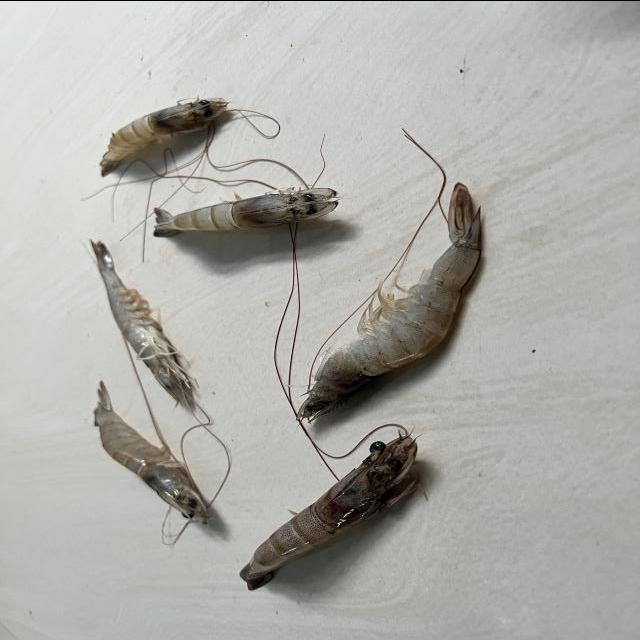shrimp: (298, 181, 481, 420), (240, 435, 417, 590), (89, 239, 190, 405), (93, 381, 210, 524), (99, 96, 227, 175), (153, 187, 338, 236)
